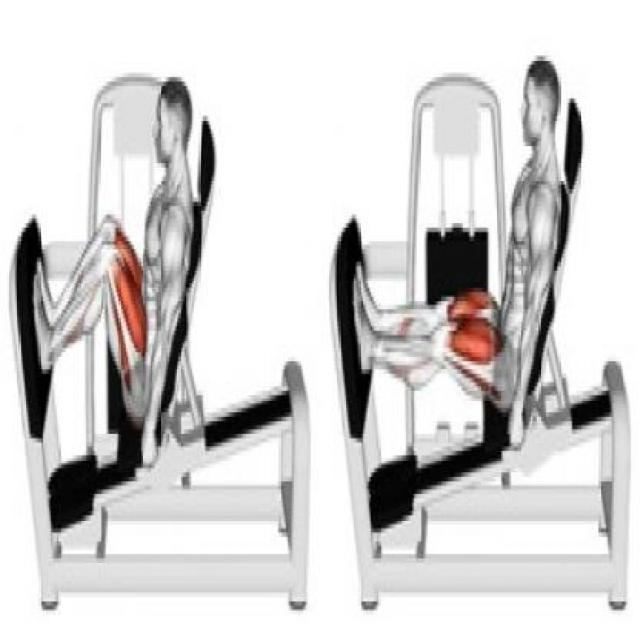leg press: (321, 27, 640, 640), (5, 31, 317, 640)
